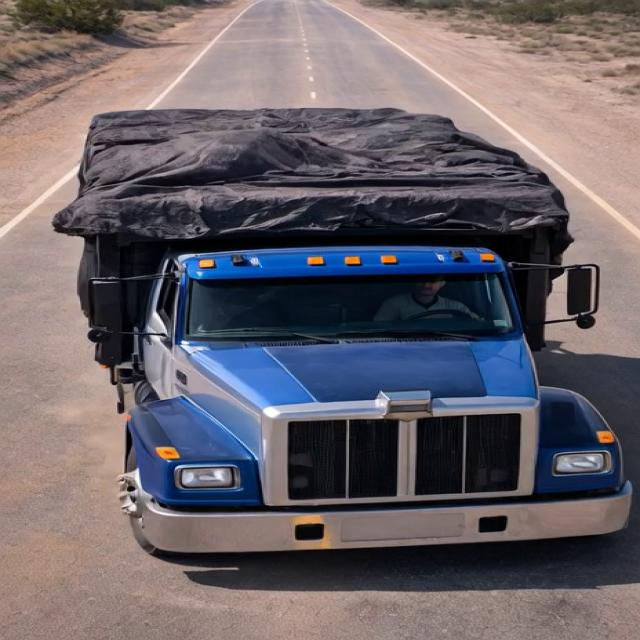trailer: (67, 103, 552, 248)
truck: (24, 80, 633, 568)
